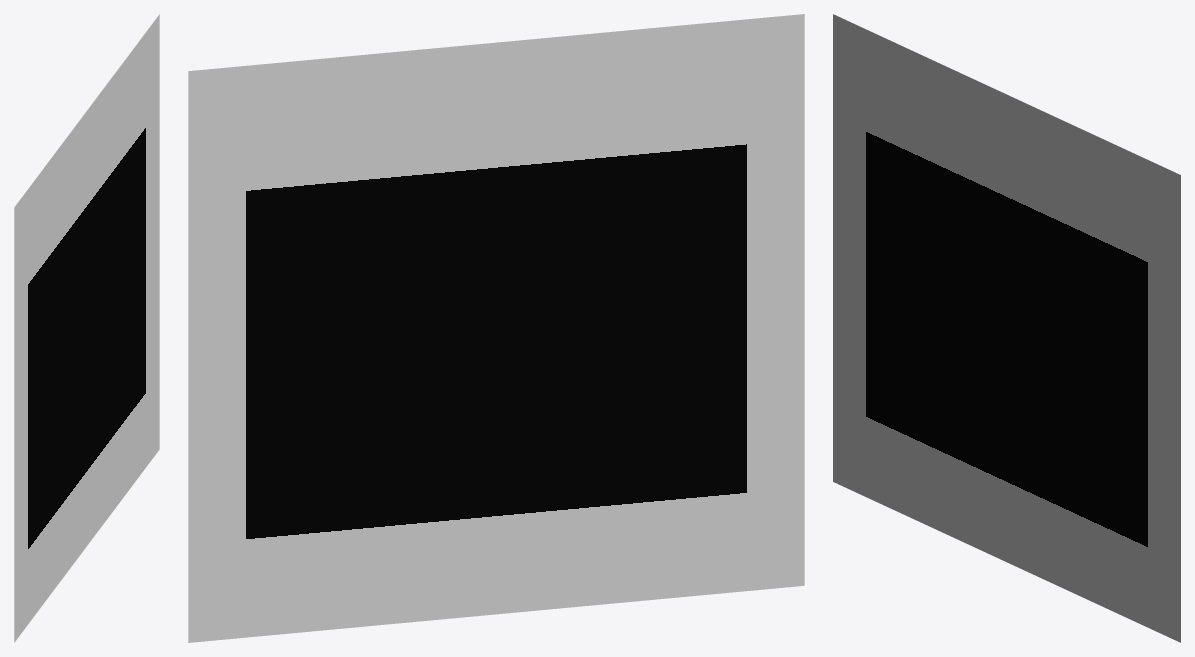
File: email.glb
3 renders of one model, left to right at view 1: azimuth 30°, elevation 25°; view 2: azimuth 150°, elevation 25°; view 3: azimuth 270°, elevation 25°, orthographic. The views are drawn at different scales.
Visible parts, largest first — view 1: mailicon; view 2: mailicon; view 3: mailicon.
Part boxes in pixels (left/top/right/bottom): mailicon: left=14, top=14, right=159, bottom=642; mailicon: left=188, top=14, right=804, bottom=642; mailicon: left=833, top=14, right=1180, bottom=642.
Bounding box in the file's own units: 0.1218 × 0.1649 × 0.1111.
1 material, 1 textured.
